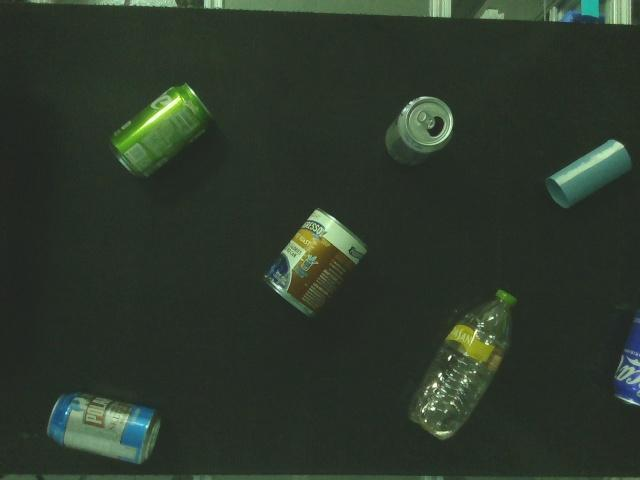cardboard: (544, 132, 637, 212)
metal: (256, 205, 372, 325), (106, 81, 220, 184), (42, 390, 167, 472), (382, 91, 458, 173), (607, 308, 640, 410)
plastic: (405, 287, 520, 445)
